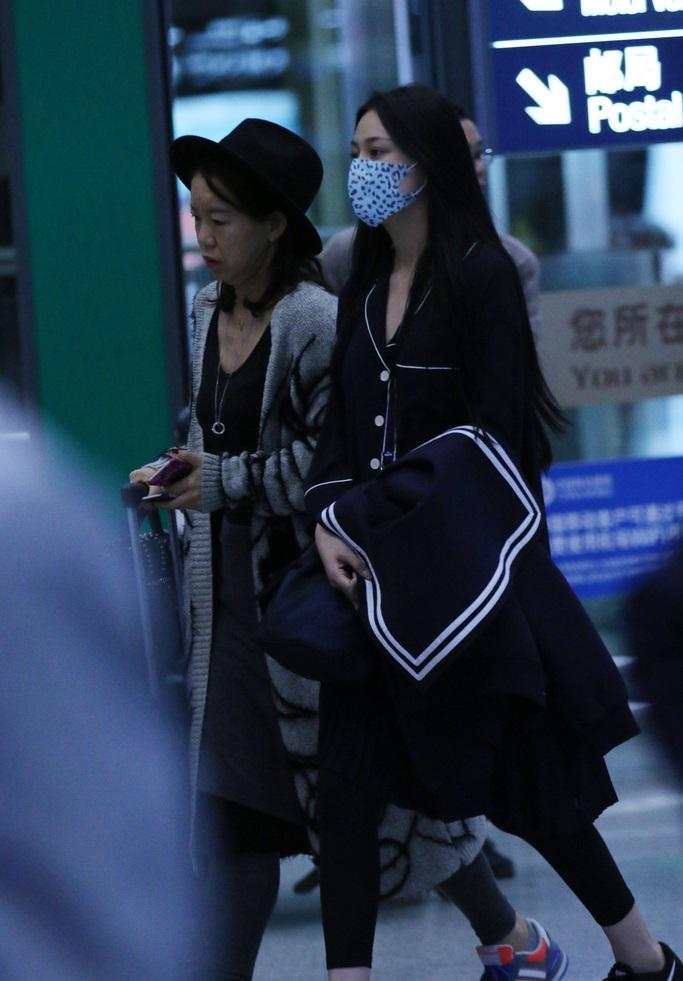NONE: (192, 201, 271, 286)
OK: (337, 126, 435, 224)
